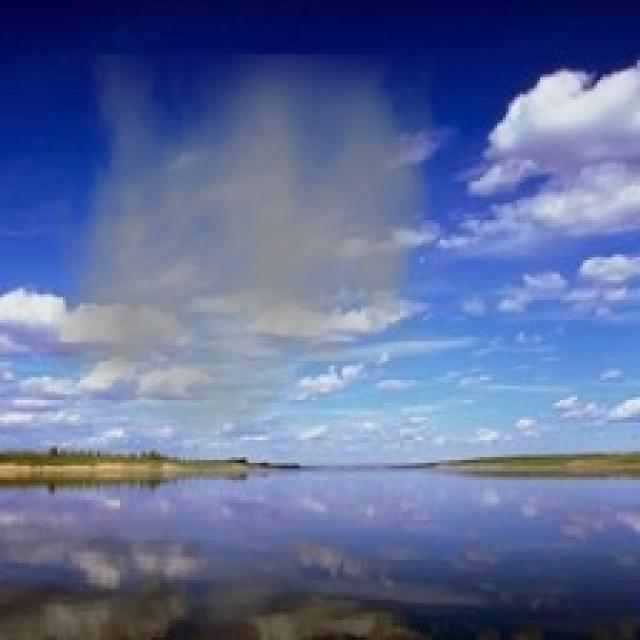smoke: (52, 54, 437, 457)
